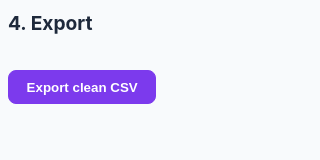
Test case: ExportPanel › shows other errors as plain messages and progress while exporting
This screenshot has width=320, height=160.
Later steps or results of the test are not shown.
Step 1. Click the button "Export clean CSV" → click(82, 87), box [8,70,156,104]
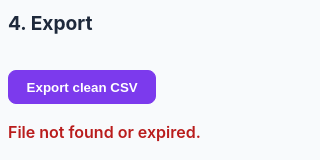
Check: the message reads "File not found or expired.", box [8,122,201,142]
